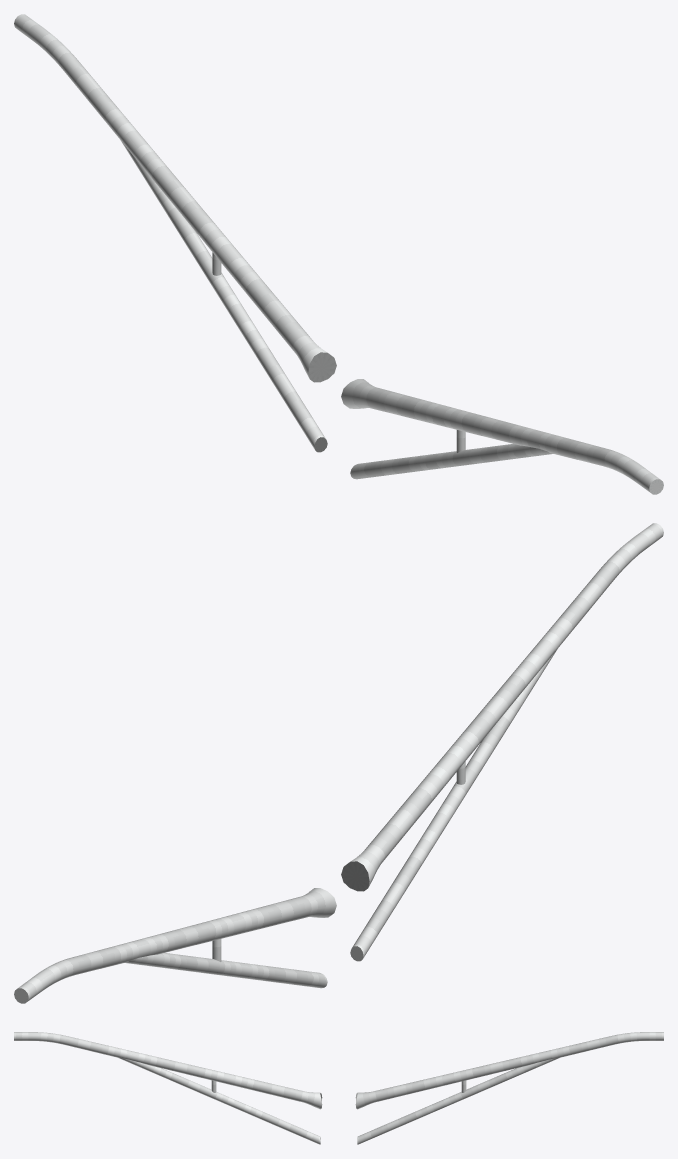
File: luminairearm_truss15ftstraightdouble_inv.obj
The picture shows the model from 3 angles, top to bottom: view 1: azimuth 30°, elevation 25°; view 2: azimuth 150°, elevation 25°; view 3: azimuth 270°, elevation 25°; orthographic projection. The views are drawn at different scales.
Visible parts, largest first — view 1: luminairearm_truss15ftstraightdouble_inv; view 2: luminairearm_truss15ftstraightdouble_inv; view 3: luminairearm_truss15ftstraightdouble_inv.
Part boxes in pixels (box(x1,y1,x2,y2)): luminairearm_truss15ftstraightdouble_inv: box(14, 14, 663, 494); luminairearm_truss15ftstraightdouble_inv: box(14, 523, 663, 1003); luminairearm_truss15ftstraightdouble_inv: box(14, 1032, 663, 1144).
Size of the model in its own units: 0.026 by 0.1904 by 1.
